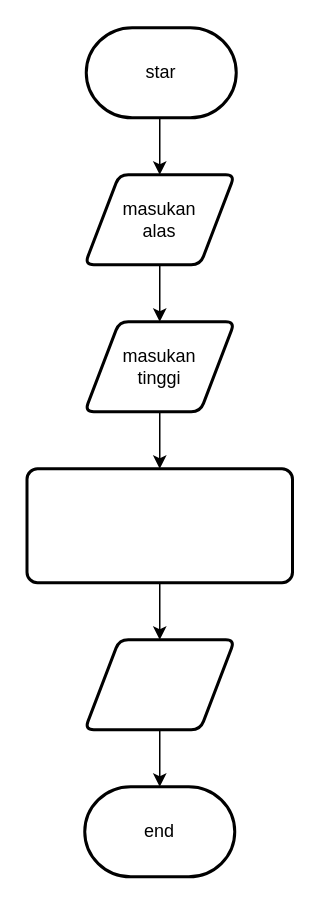
Some shapes in this 320 by 903 pixel diagram are drawn without their labels. Here are the shapes that lost their labels. From the top down, the box of each, then its label:
(25, 466, 293, 584): luas= 1/2 *(alas*tinggi)
(82, 638, 236, 730): tampil luas segitiga
